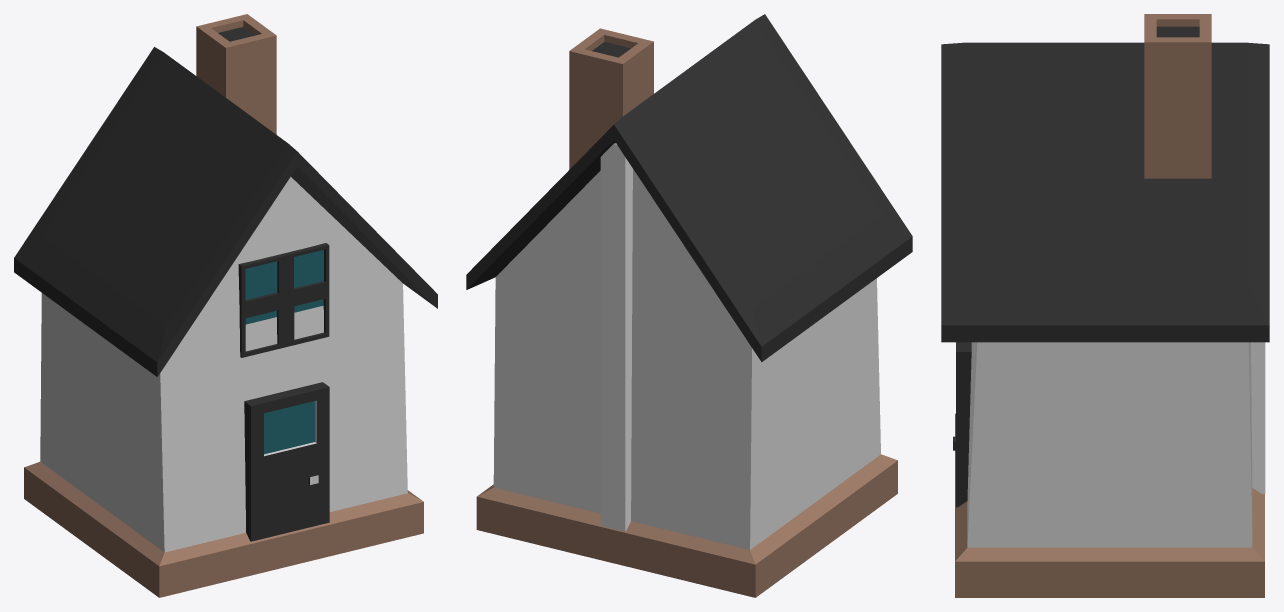
3 renders of one model, left to right at view 1: azimuth 30°, elevation 25°; view 2: azimuth 150°, elevation 25°; view 3: azimuth 270°, elevation 25°, orthographic. The views are drawn at different scales.
Parts seen in each view (by area): view 1: Cube; view 2: Cube, Cube.004; view 3: Cube, Cube.004.
Boxes of the visible parts, x1,y1,x2,y2 form: Cube: (14,14,437,597); Cube: (466,14,912,597); Cube.004: (600,143,632,531); Cube: (941,14,1269,597); Cube.004: (1251,342,1265,494).
Size of the model in its own units: 310 by 479 by 275.
